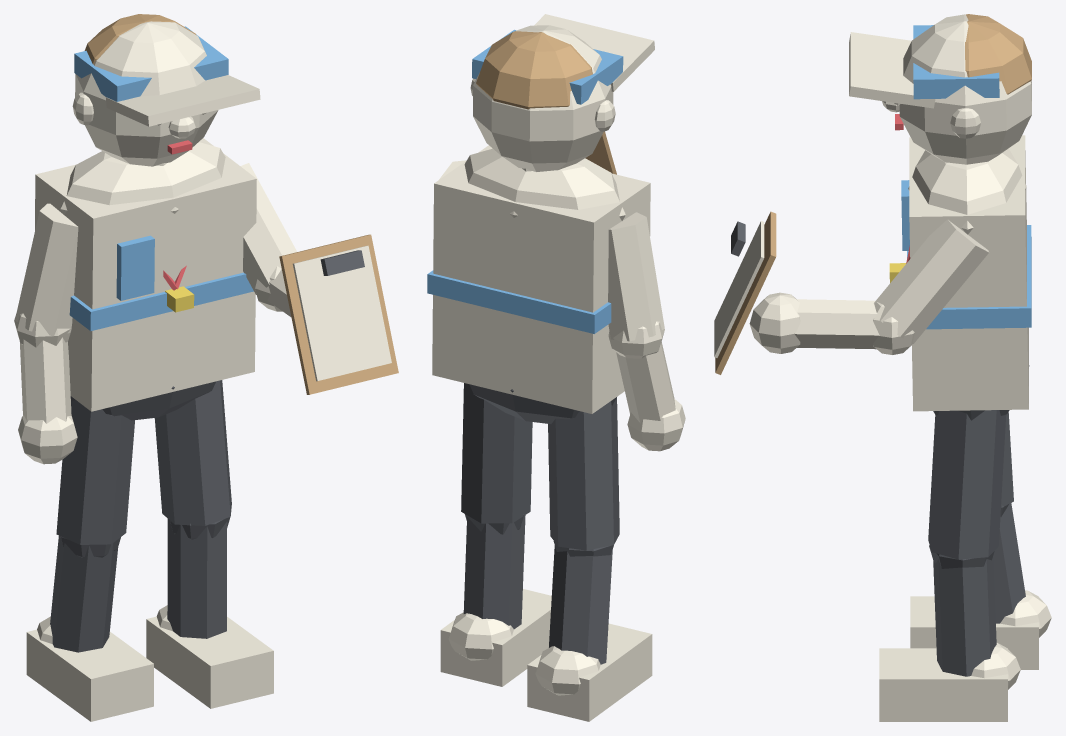
The model's file is lawn-mowing-simulator-kit-lawn-perfectionist-standing-e7112097__27350.glb.
3 renders of one model, left to right at view 1: azimuth 30°, elevation 25°; view 2: azimuth 150°, elevation 25°; view 3: azimuth 270°, elevation 25°, orthographic. The views are drawn at different scales.
Parts seen in each view (by area): view 1: lawn-perfectionist-standing; view 2: lawn-perfectionist-standing; view 3: lawn-perfectionist-standing.
Part boxes in pixels (box(x1,y1,x2,y2)): lawn-perfectionist-standing: box(14, 14, 398, 721); lawn-perfectionist-standing: box(427, 14, 685, 721); lawn-perfectionist-standing: box(714, 14, 1051, 721).
Bounding box in the file's own units: 0.7023 × 1.7 × 0.7869.
